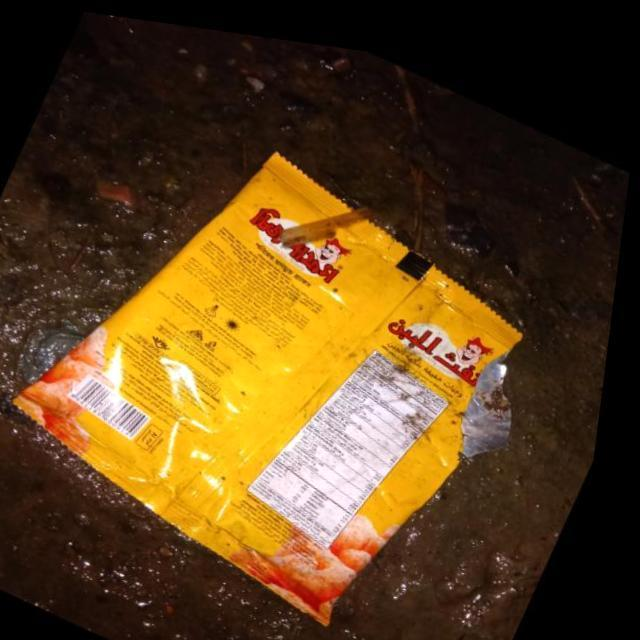packet: (20, 104, 547, 633)
